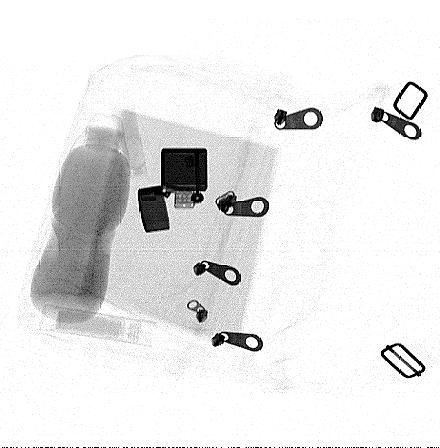Lighter: (136, 147, 210, 234)
